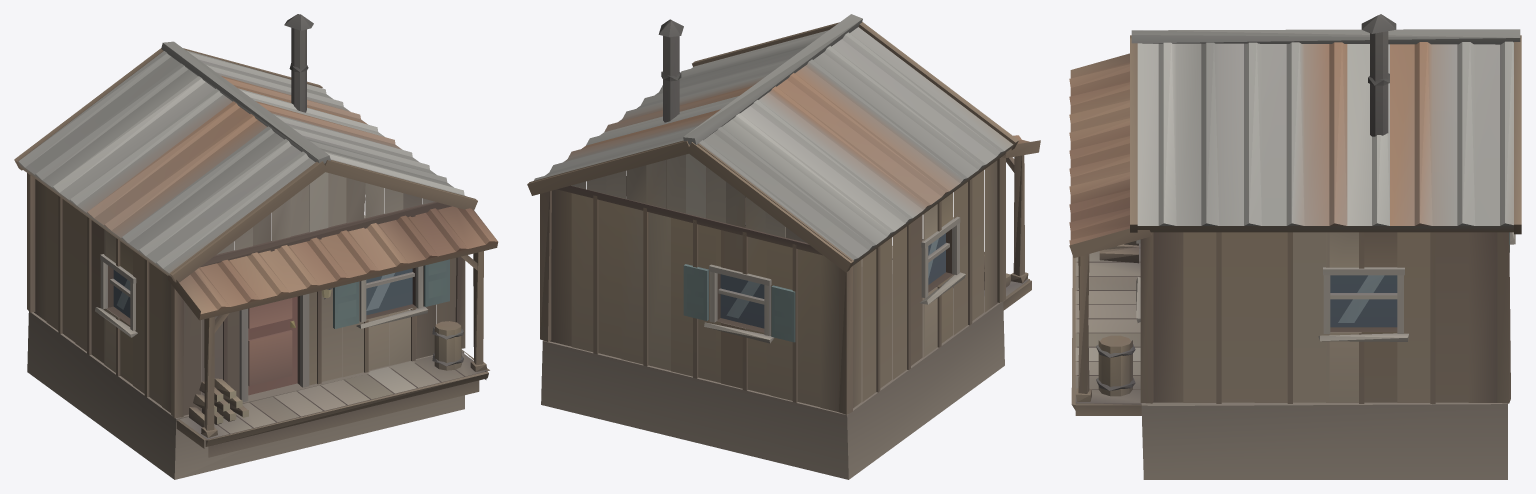
File: house_11.lod1.glb
3 renders of one model, left to right at view 1: azimuth 30°, elevation 25°; view 2: azimuth 150°, elevation 25°; view 3: azimuth 270°, elevation 25°, orthographic. The views are drawn at different scales.
Bounding box in the file's own units: 5.75 × 6.15 × 5.96.
